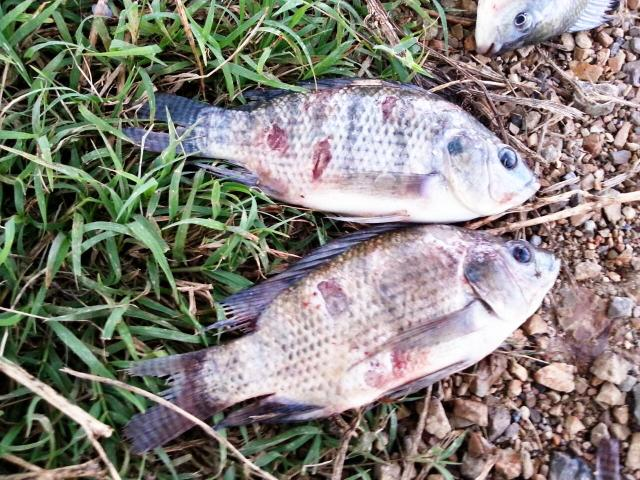Columnaris Disease: (130, 224, 560, 428), (155, 78, 540, 224), (122, 128, 169, 152)
